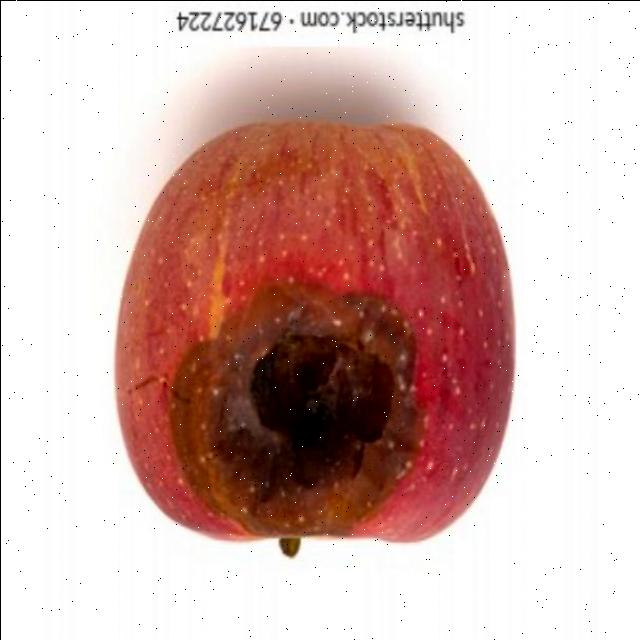ROT: (70, 94, 548, 563)
